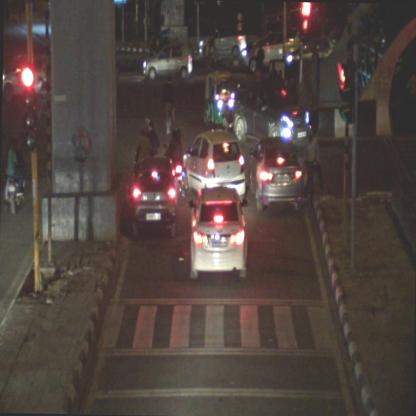car: (188, 184, 248, 280), (178, 127, 244, 206), (233, 78, 311, 144), (247, 137, 301, 210), (132, 155, 177, 232), (246, 30, 300, 70), (144, 41, 192, 81), (197, 24, 245, 57)
motorcycle: (4, 140, 23, 218), (165, 132, 182, 202)
